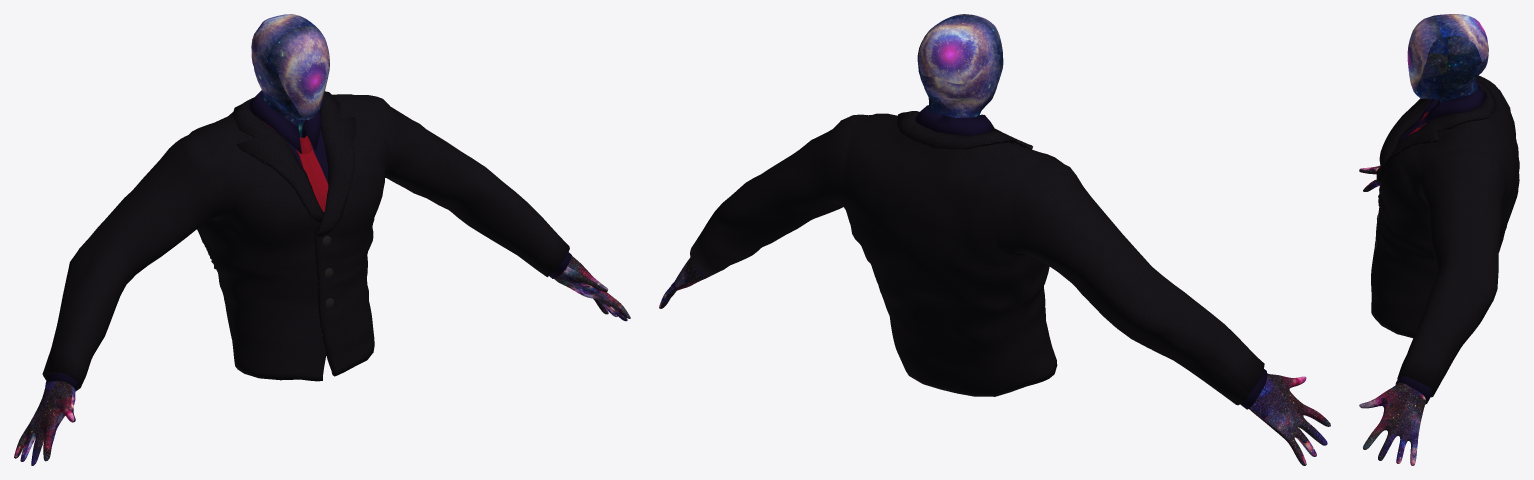
File: galaxyManModel.gltf
3 renders of one model, left to right at view 1: azimuth 30°, elevation 25°; view 2: azimuth 150°, elevation 25°; view 3: azimuth 270°, elevation 25°, orthographic. The views are drawn at different scales.
Visible parts, largest first — view 1: GalaxyMan; view 2: GalaxyMan; view 3: GalaxyMan.
Part boxes in pixels (x1=…): GalaxyMan: x1=14, y1=14, x2=630, y2=465; GalaxyMan: x1=659, y1=14, x2=1330, y2=465; GalaxyMan: x1=1359, y1=14, x2=1519, y2=465.
Bounding box in the file's own units: 18.68 × 10.46 × 4.81.
Materials: 6 (3 with a texture image).
